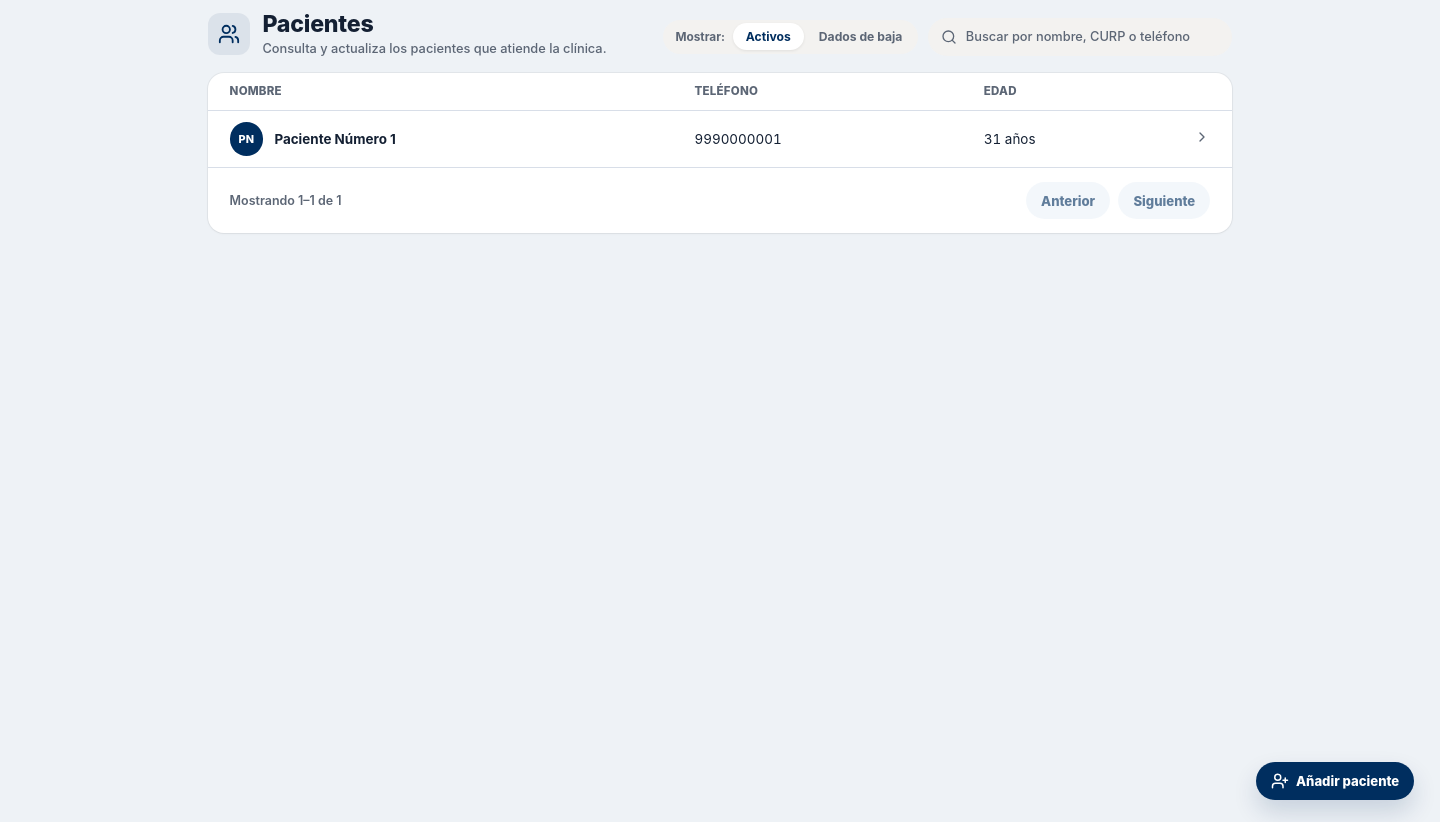
Test: filtro de pacientes dados de baja (EDT 4.3.3) › al elegir "Dados de baja" consulta estado=inactivos y marca cada fila
Expected: the text "Paciente Número 1" is shown, left=274, top=131, right=396, bottom=147
Click the button "Dados de baja" at [861, 37], box left=806, top=23, right=915, bottom=50
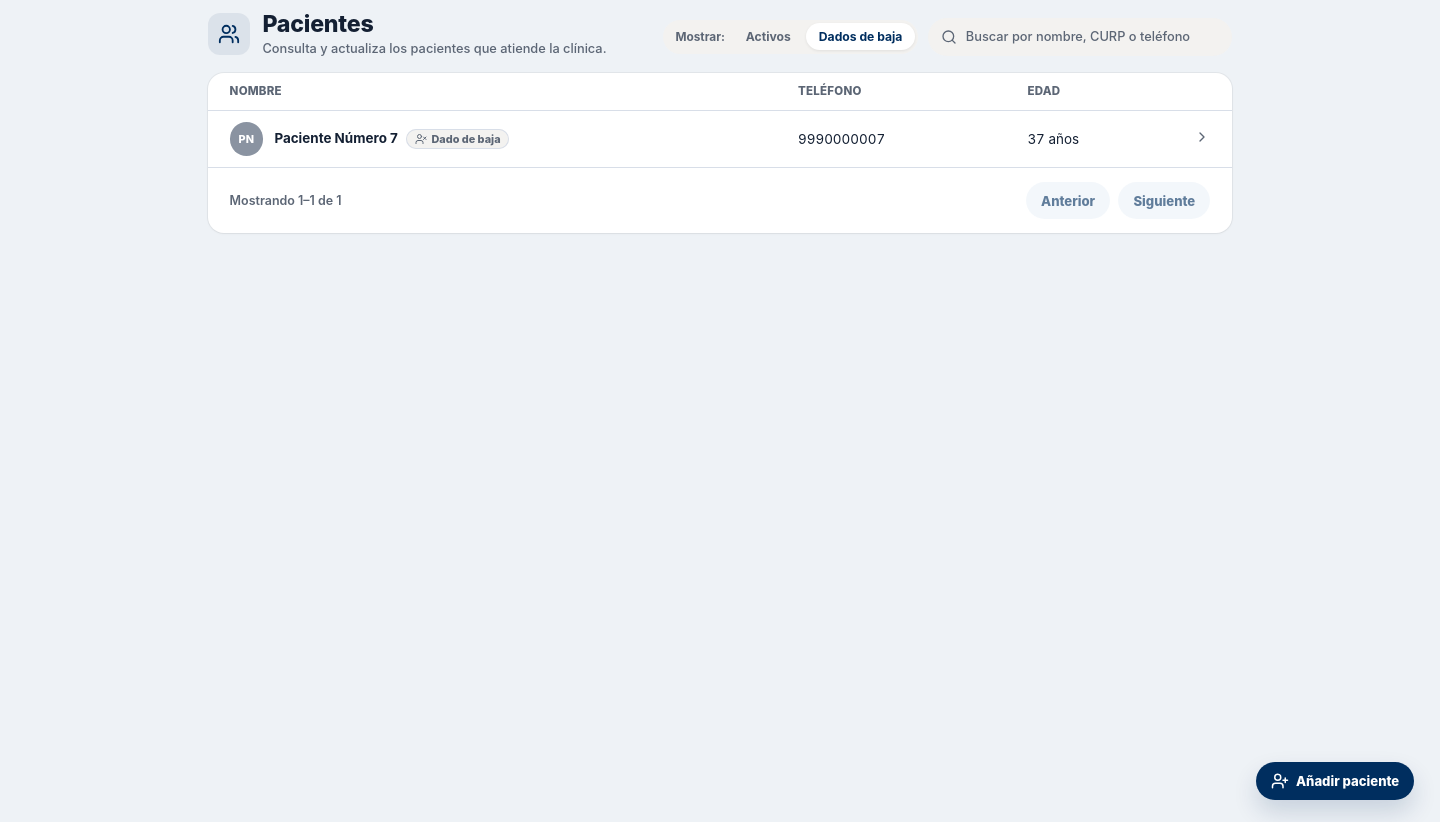
Expected: the text "Paciente Número 7" is shown, left=274, top=130, right=398, bottom=146
Expected: the text "Dado de baja" is shown, left=406, top=129, right=509, bottom=149
